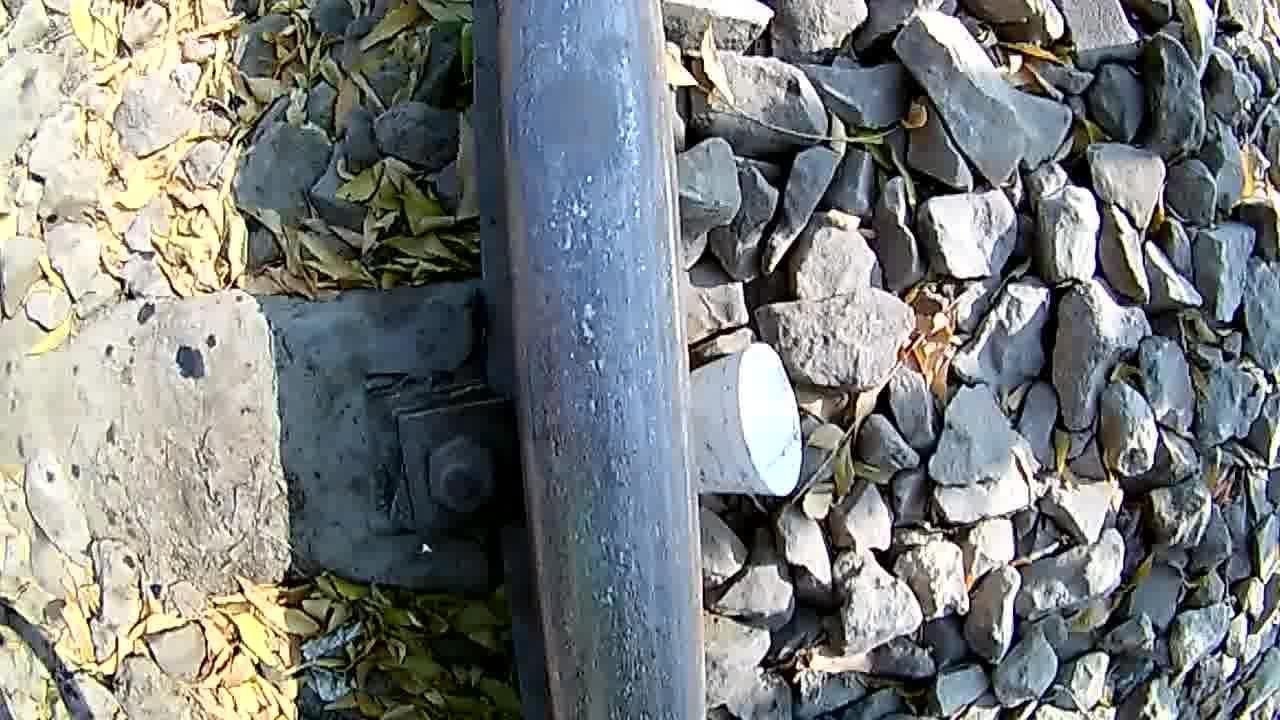crack: (474, 6, 646, 231)
